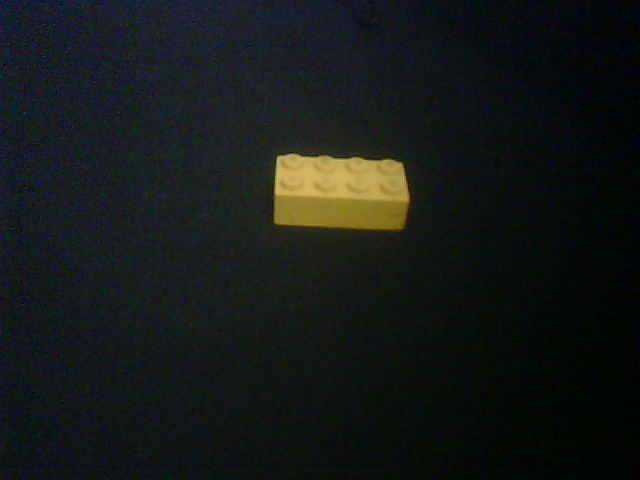lego: (272, 151, 411, 233)
